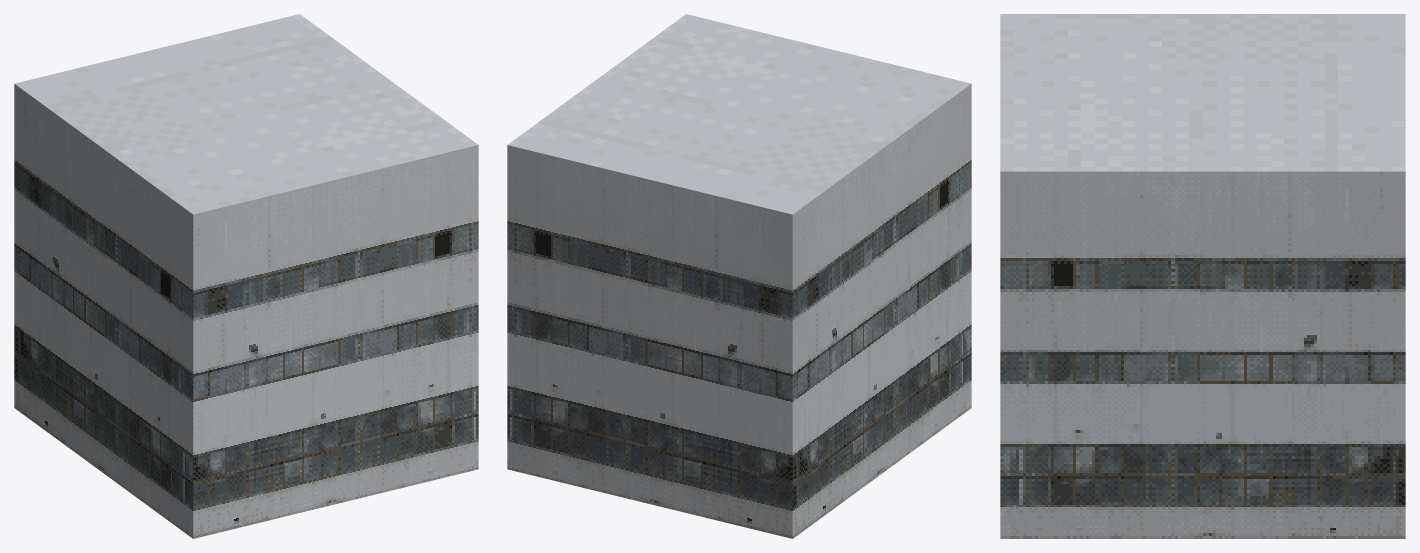
The model's file is Building_1.glb.
3 views of the same model, side by side, from view 1: azimuth 30°, elevation 25°; view 2: azimuth 150°, elevation 25°; view 3: azimuth 270°, elevation 25° (orthographic). The views are drawn at different scales.
Parts seen in each view (by area): view 1: Building 1; view 2: Building 1; view 3: Building 1.
Part boxes in pixels (left/top/right/bottom): Building 1: left=14, top=14, right=478, bottom=538; Building 1: left=507, top=14, right=971, bottom=538; Building 1: left=1000, top=14, right=1405, bottom=538.
Size of the model in its own units: 3.44 by 3.73 by 3.73.
1 material, 1 textured.
